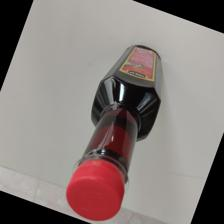Namngu: (66, 43, 167, 222)
